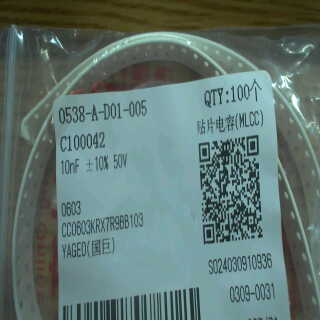10nF: (58, 154, 87, 178)
